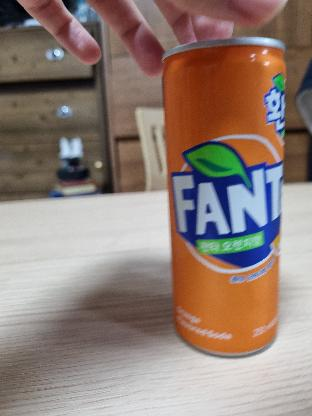Can: (174, 55, 282, 348)
